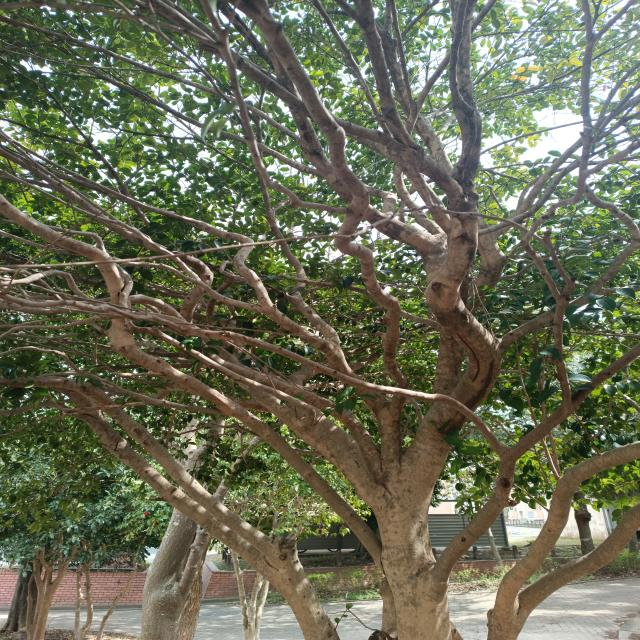Branch: (1, 194, 383, 568), (263, 38, 502, 403), (0, 147, 301, 431), (230, 0, 413, 408), (147, 0, 466, 204), (71, 295, 379, 468), (1, 375, 270, 555), (43, 386, 265, 577), (496, 441, 640, 610), (495, 113, 605, 236), (520, 503, 640, 614), (431, 447, 516, 586), (382, 28, 452, 173), (354, 0, 420, 150), (325, 340, 405, 452), (451, 0, 481, 191), (394, 162, 448, 245), (260, 305, 325, 353), (292, 290, 339, 345)
Twig: (0, 229, 315, 425), (0, 206, 577, 304), (520, 0, 639, 405), (0, 129, 272, 306), (182, 325, 509, 459), (1, 16, 299, 142), (116, 129, 308, 294), (0, 58, 155, 231), (80, 69, 319, 176), (3, 220, 265, 312), (500, 180, 640, 351), (0, 168, 203, 285), (437, 36, 636, 142), (477, 133, 640, 235), (0, 345, 225, 414), (513, 342, 640, 462), (404, 0, 497, 135), (312, 0, 391, 135), (0, 291, 187, 331), (479, 116, 630, 157), (449, 0, 476, 182), (1, 320, 105, 366), (220, 249, 291, 301), (0, 313, 120, 340), (0, 270, 94, 300), (388, 0, 415, 103), (328, 306, 441, 330), (595, 81, 640, 141), (0, 117, 89, 147), (599, 62, 639, 118), (595, 97, 640, 142), (0, 319, 109, 335), (27, 341, 110, 350)
